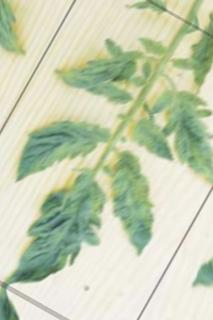Tomato leaf mosaic virus: (0, 156, 120, 307), (7, 98, 114, 211), (51, 17, 152, 113), (131, 79, 213, 185), (122, 113, 184, 166)
